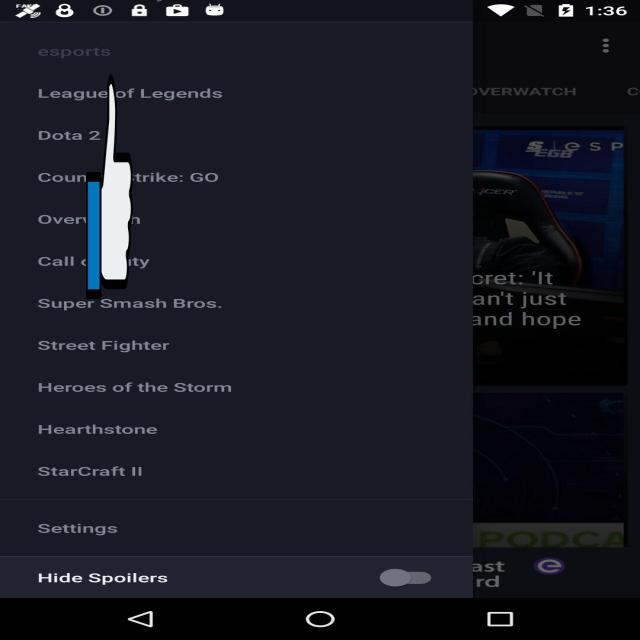privacy zuckering: (86, 69, 133, 304)
